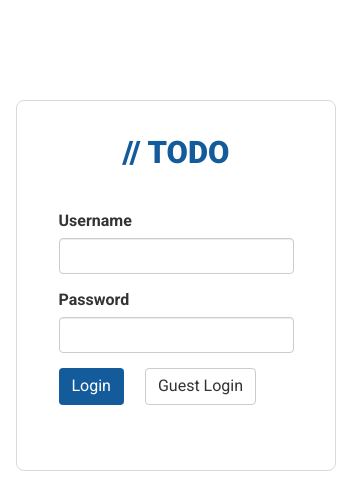
Scenario: login internal server error
Click the button "Login": point(91, 386) [58,368,124,405]
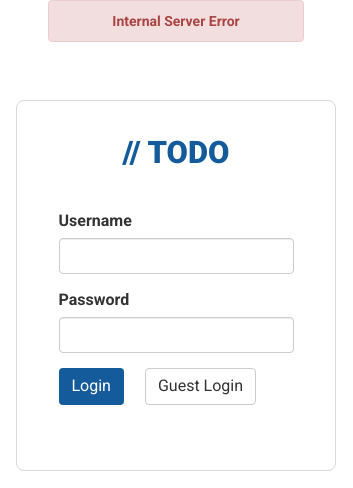
Now the message reads "Internal Server Error", box [112,13,240,29]
